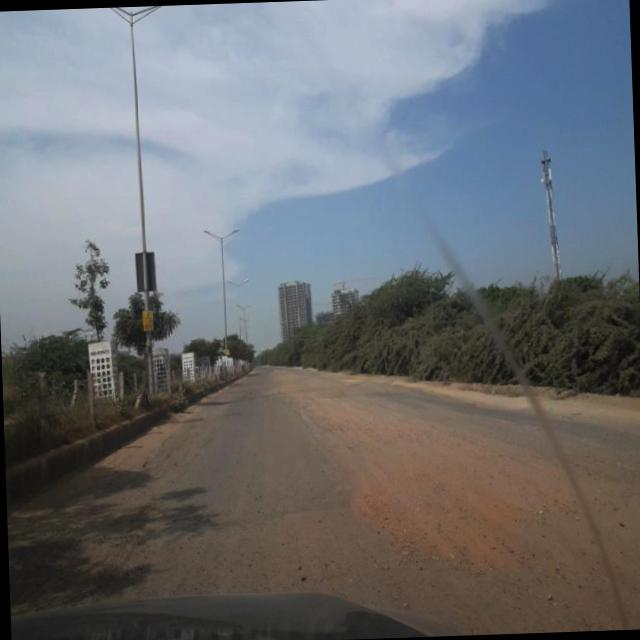pothole: (326, 409, 520, 597)
